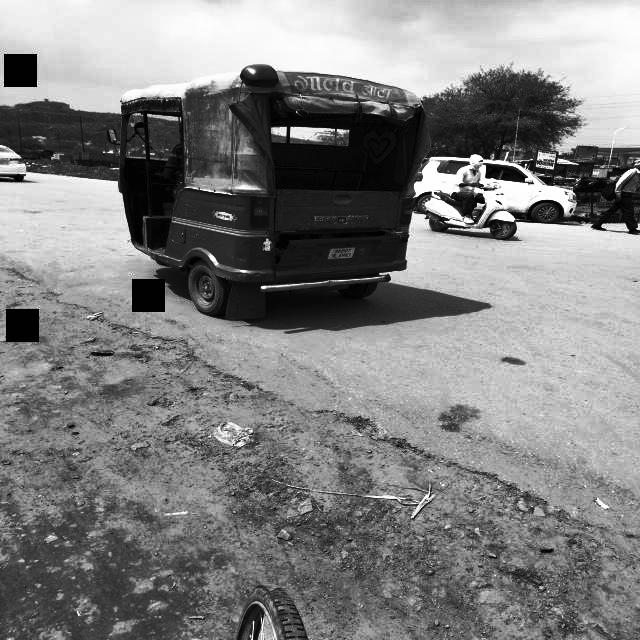Auto-Rickshaw: (98, 71, 417, 323)
